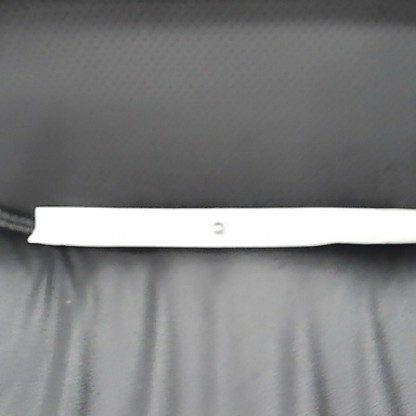ironball: (210, 219, 224, 235)
